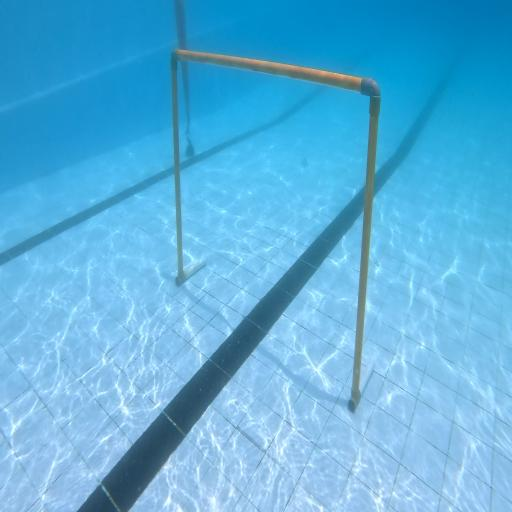gate: (170, 48, 382, 413)
